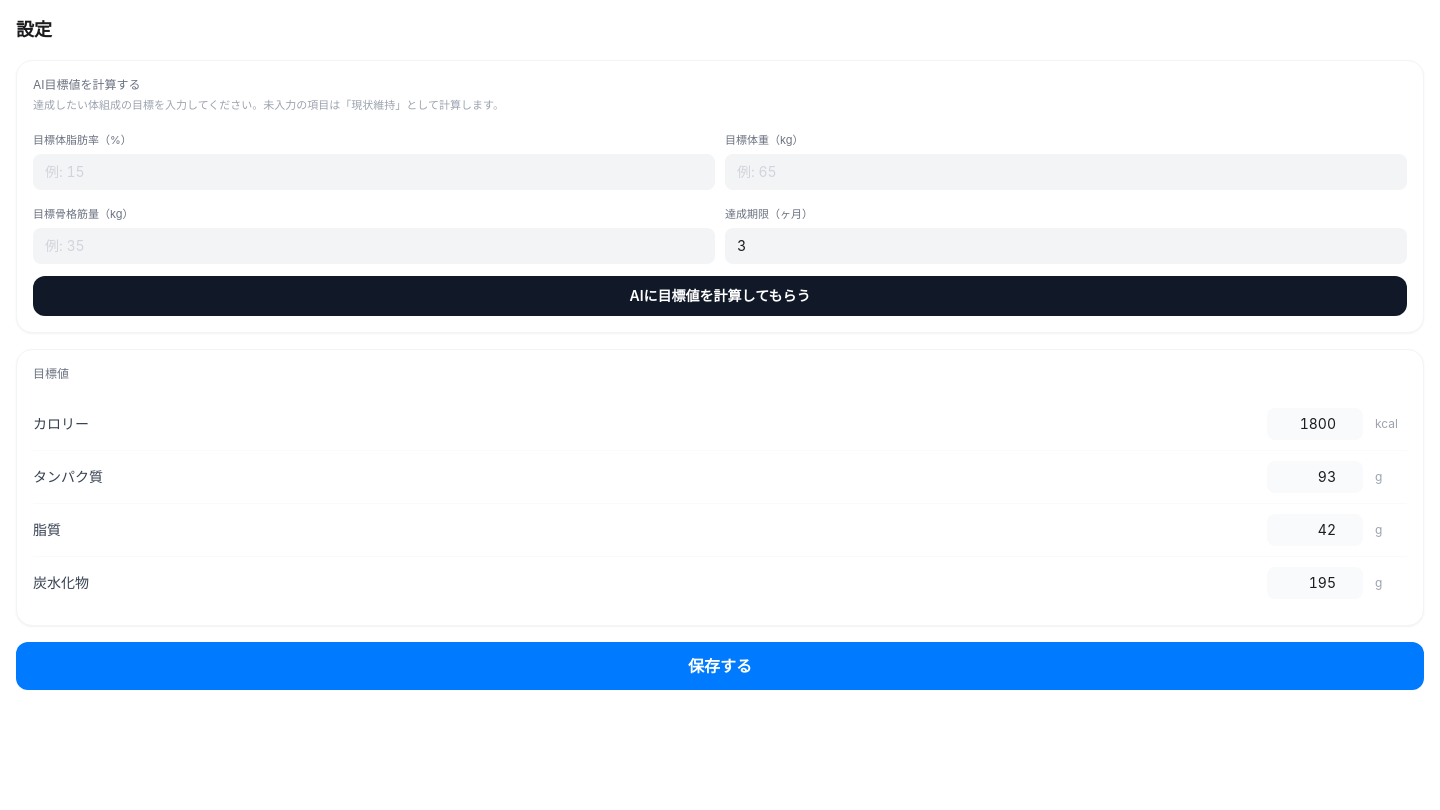
it: SettingsScreen › disables save button when a field is cleared
Clear the number field showing "1800" next to "kcal" at (1315, 424), box [1267,408,1363,440]
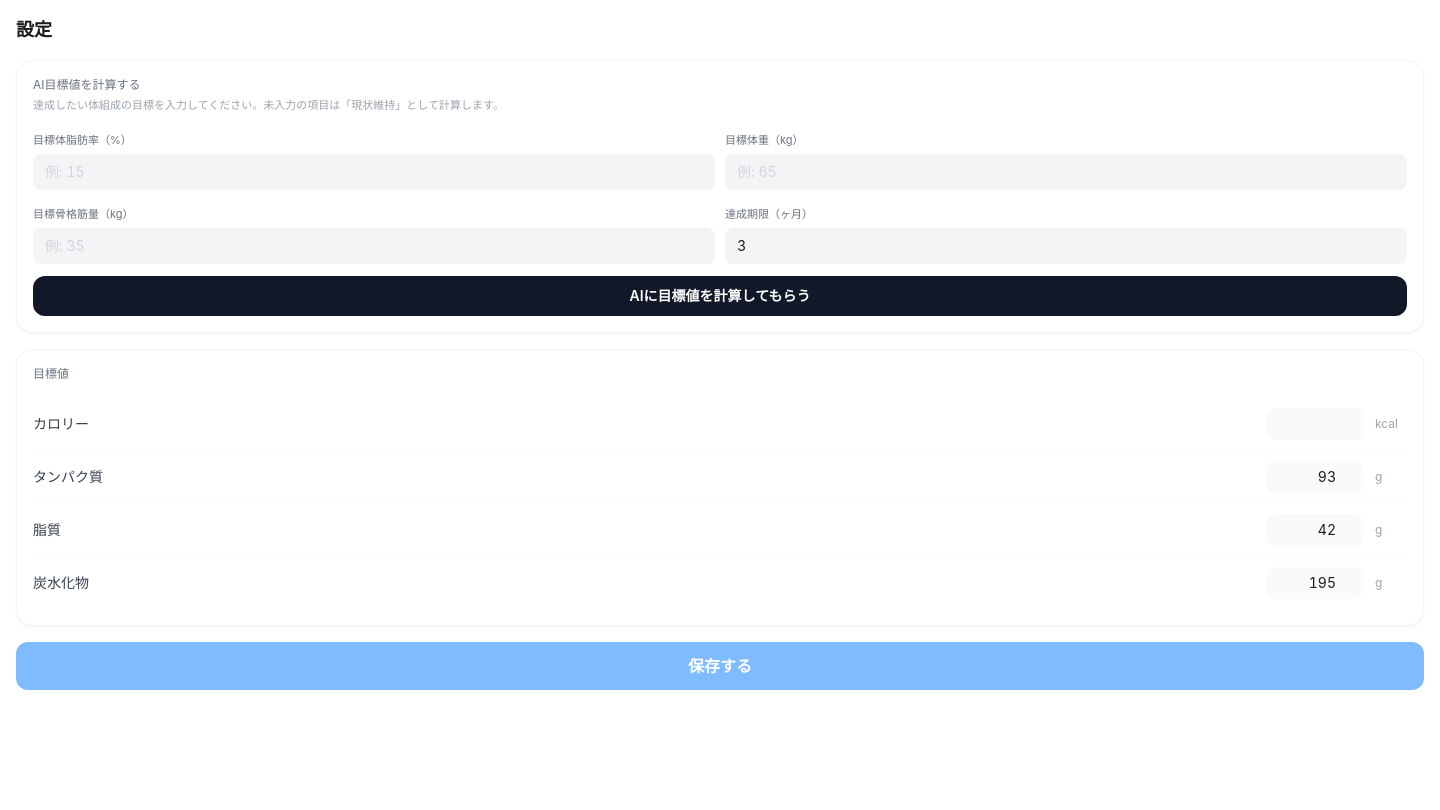
expect the button "保存する" is disabled: met, box [16,642,1424,690]
